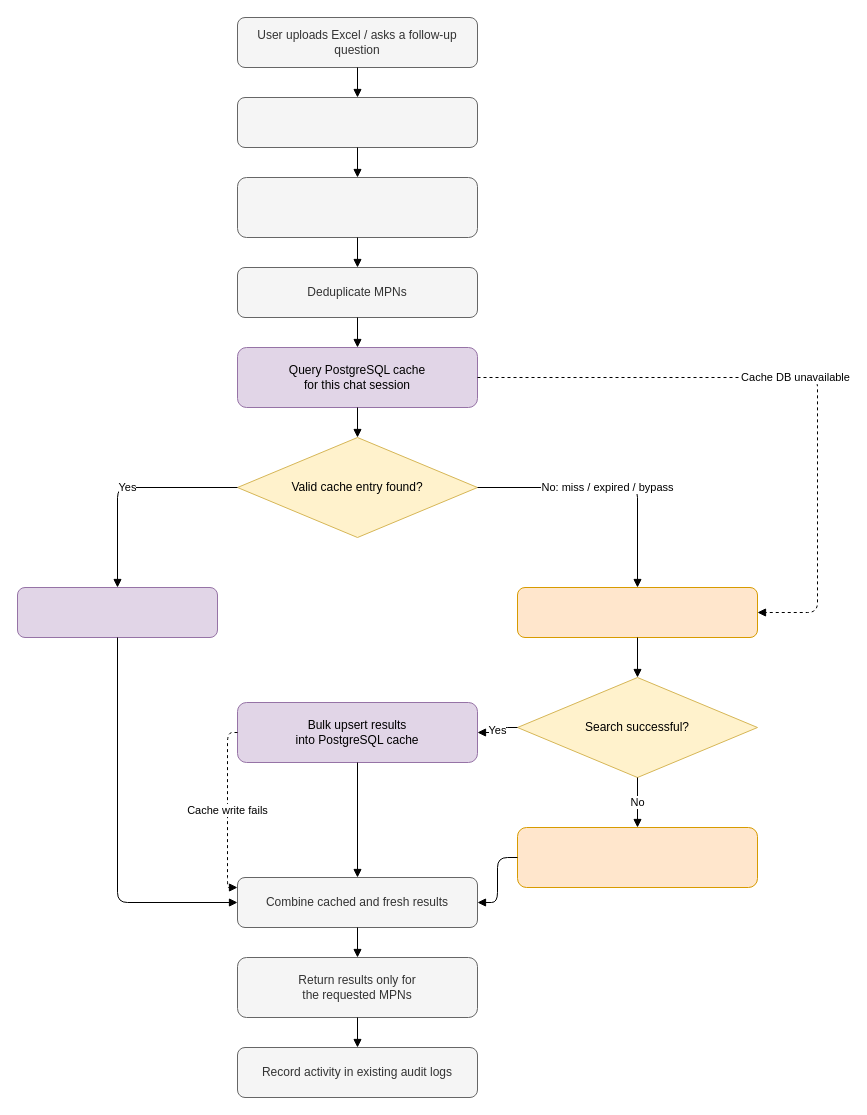
The diagram is 867 pixels wide and 1115 high, and some of its shapes have lost their labels. Here are the shapes that lost their labels. From the top down, the box of each, then its label:
(236, 96, 478, 148): Extract requested MPNs
(236, 176, 478, 238): Normalize MPNs Trim, uppercase, remove spaces
(16, 586, 218, 638): Reuse cached result
(516, 586, 758, 638): Call external web search API
(516, 826, 758, 888): Handle search failure without caching as success
